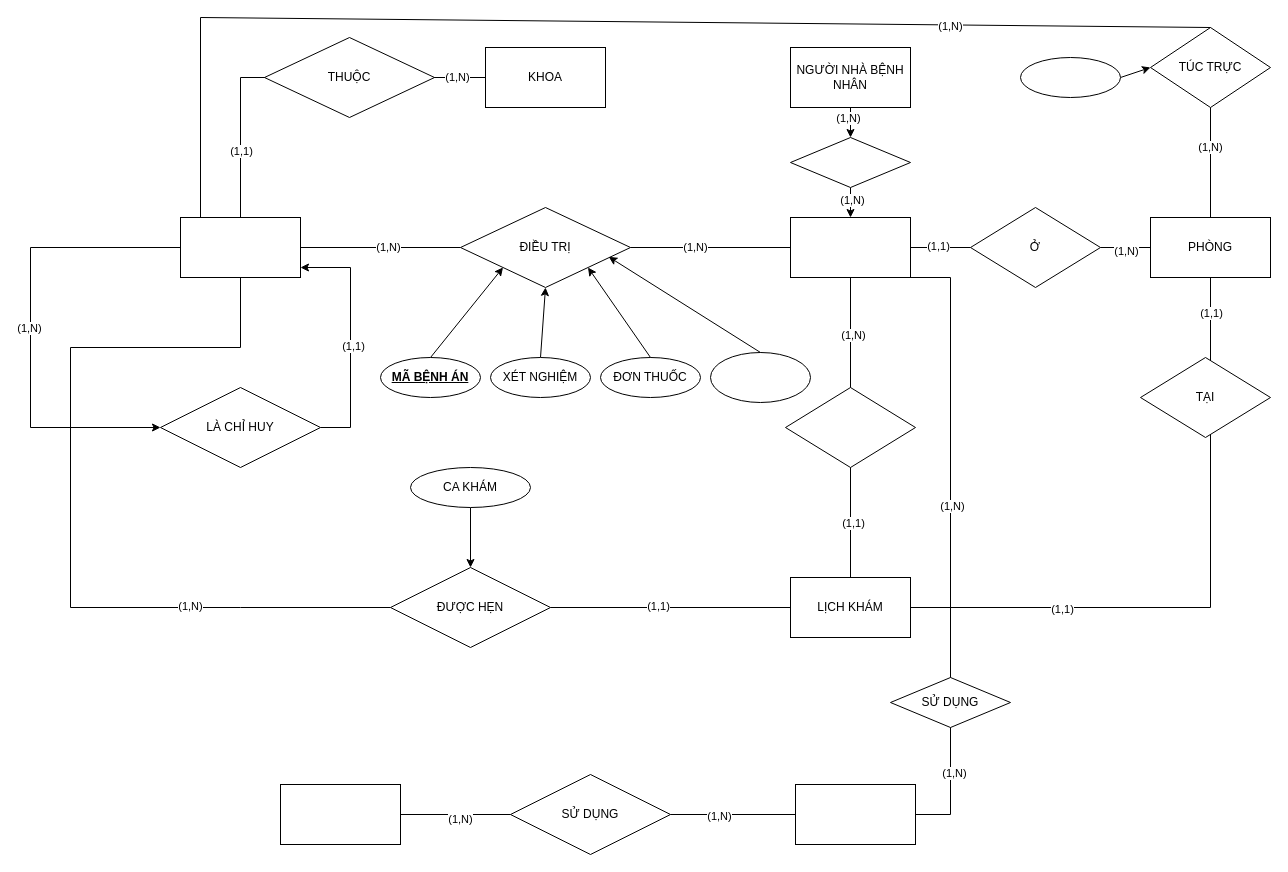
This 1288x872 diagram has some shape labels left out. Here are the shapes that lost their labels. From the top down, the centre of each, then its label:
point 1070,77: CA TRỰC
point 850,162: LÀ THÂN NHÂN
point 240,247: Y SĨ
point 850,247: BỆNH NHÂN
point 760,377: HÓA ĐƠN
point 850,427: ĐĂNG KÝ
point 340,814: NHÂN VIÊN
point 855,814: TÀI SẢN CÔNG
